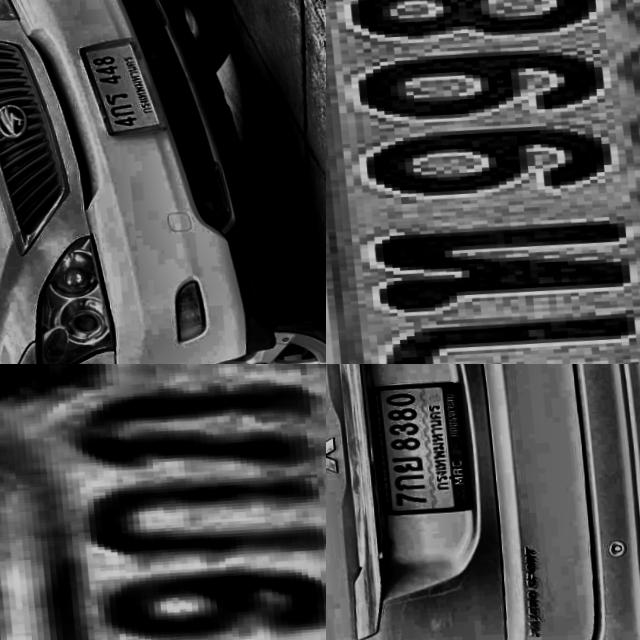license-plate: (326, 0, 640, 364), (0, 364, 326, 640), (367, 376, 474, 517), (73, 28, 171, 139)
